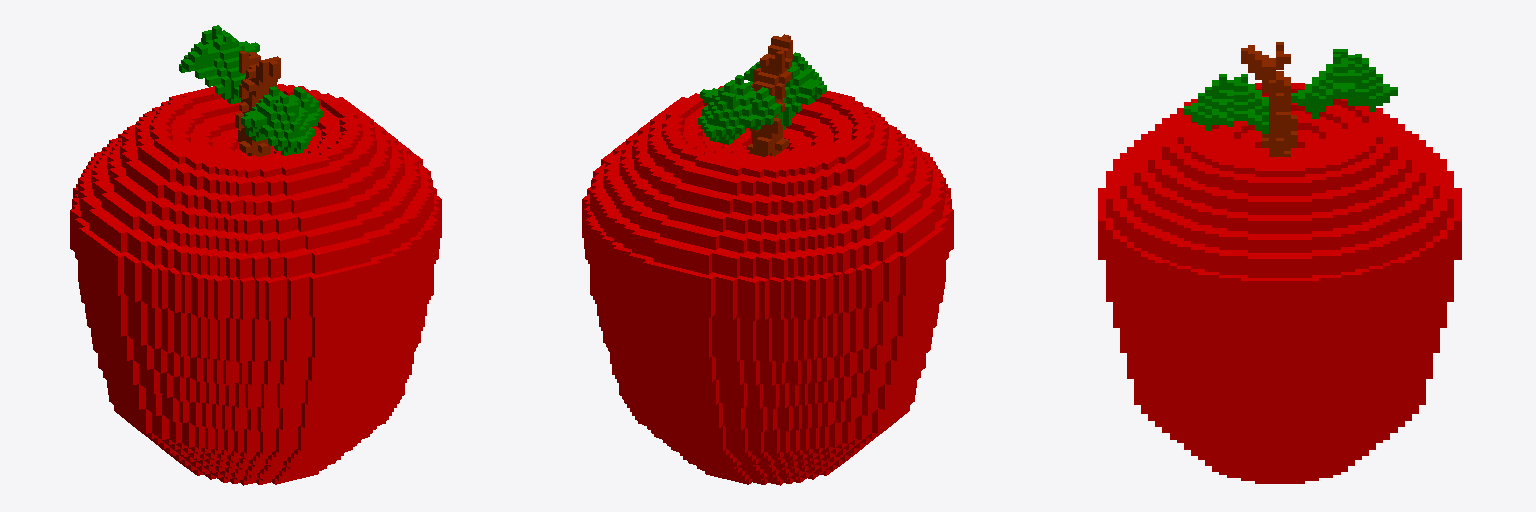
3 renders of one model, left to right at view 1: azimuth 30°, elevation 25°; view 2: azimuth 150°, elevation 25°; view 3: azimuth 270°, elevation 25°, orthographic.
Bounding box in the file's own units: 51 × 64 × 51.
1 materials, 1 textured.